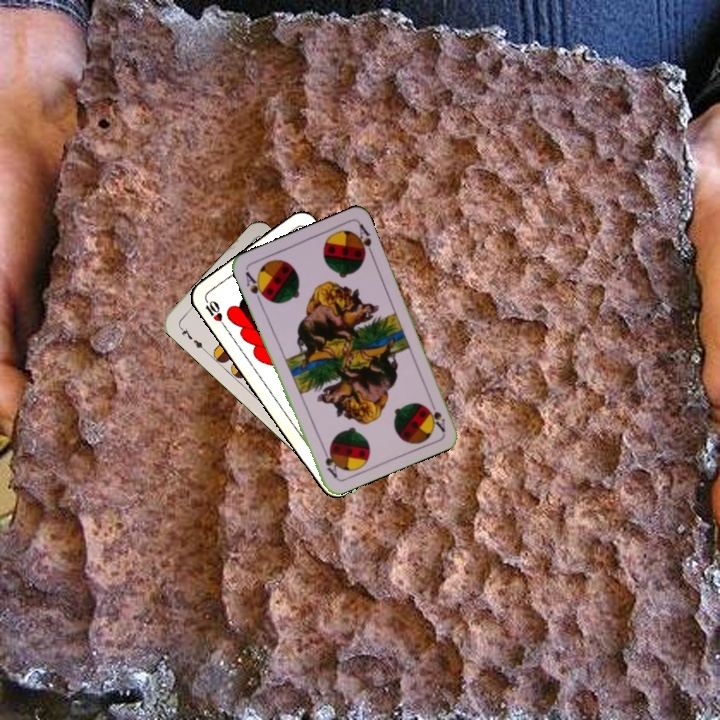E7: (175, 322, 208, 354)
H10: (200, 294, 228, 330)
SA: (241, 267, 269, 306), (424, 395, 448, 434)
